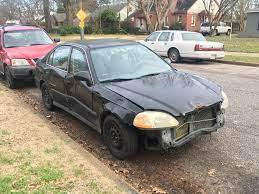doorouter-dent: (43, 65, 68, 106), (68, 77, 94, 116)
front-bumper-dent: (144, 112, 241, 147)
